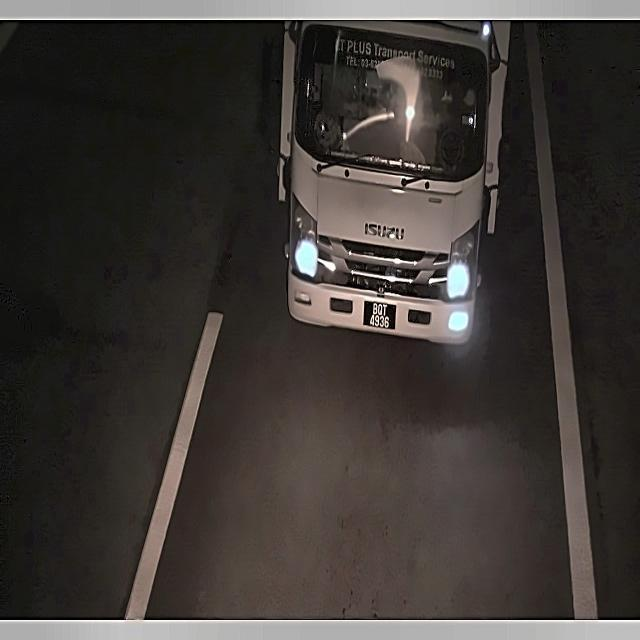car: (358, 296, 401, 340)
